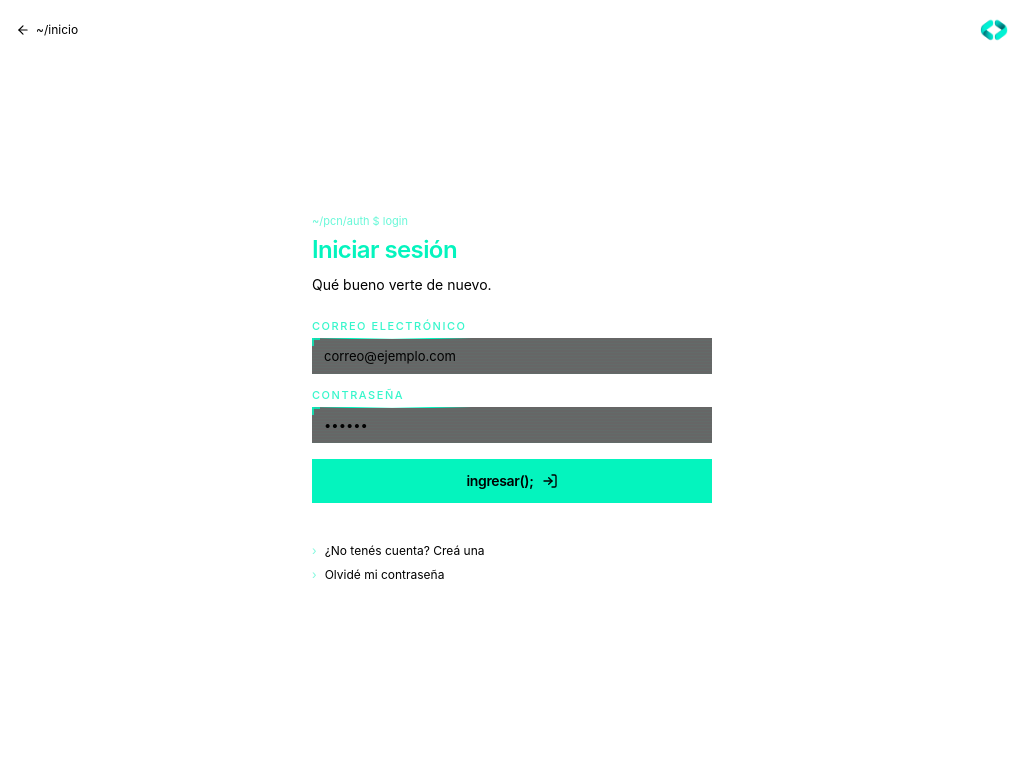
Scenario: SignInPage › two-factor step › goes back to the password form
Type "ana@example.com" into the field labelled "Correo electrónico".
click(512, 356); type("ana@example.com")  # box x1=312 y1=338 x2=712 y2=374
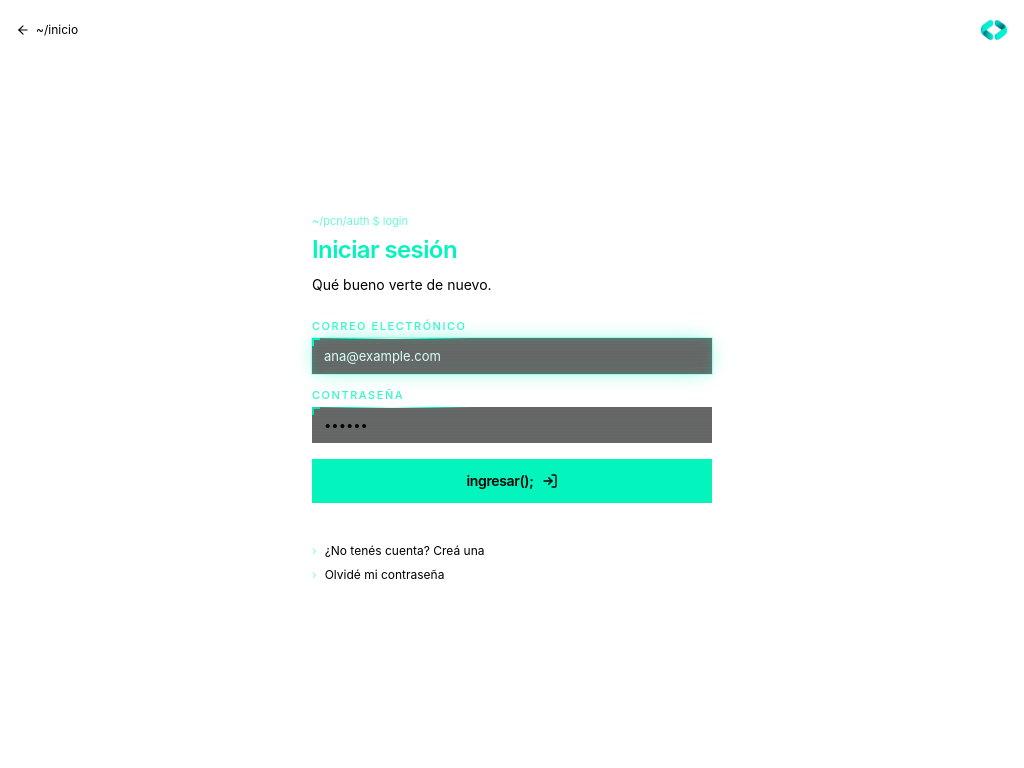
Type "secreta" into the password field labelled "Contraseña".
click(512, 425); type("secreta")  # box x1=312 y1=407 x2=712 y2=443
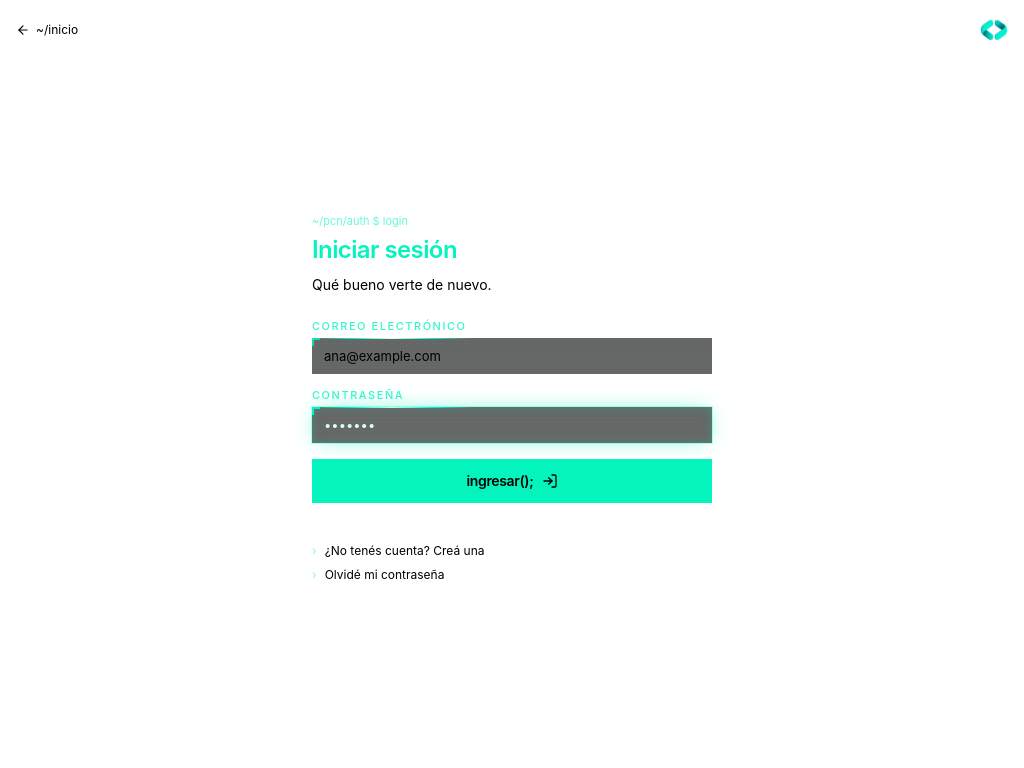
Click the button "ingresar();".
click(512, 481)  # box x1=312 y1=459 x2=712 y2=503
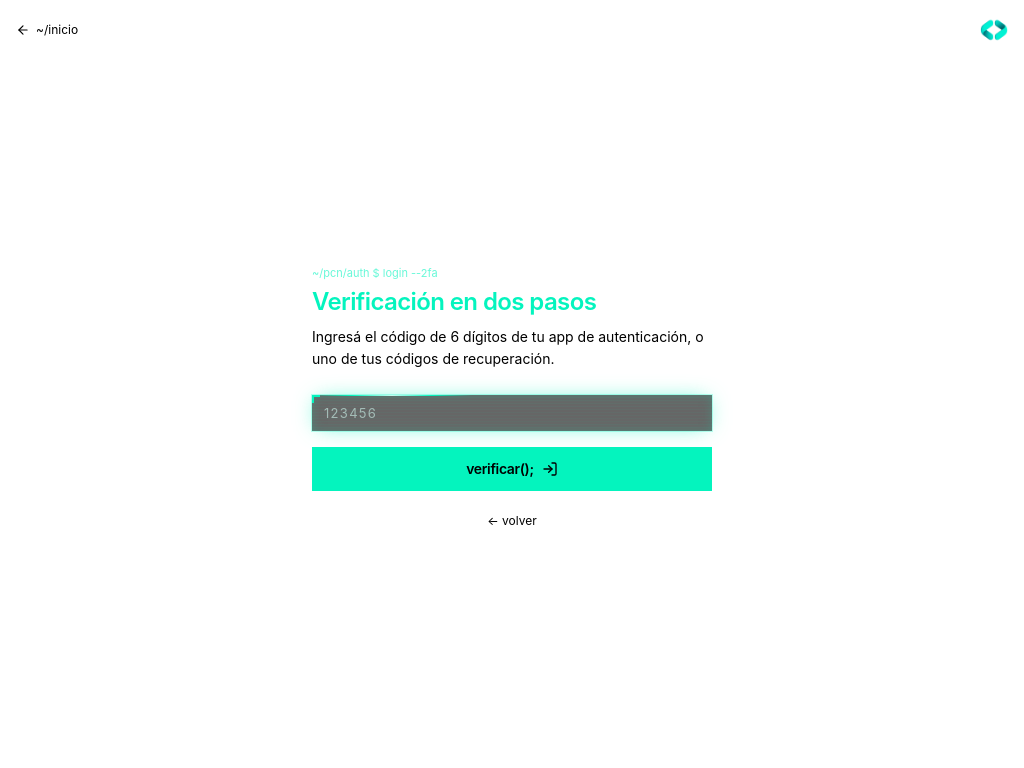
Click the button "← volver".
click(512, 521)  # box x1=312 y1=513 x2=712 y2=529
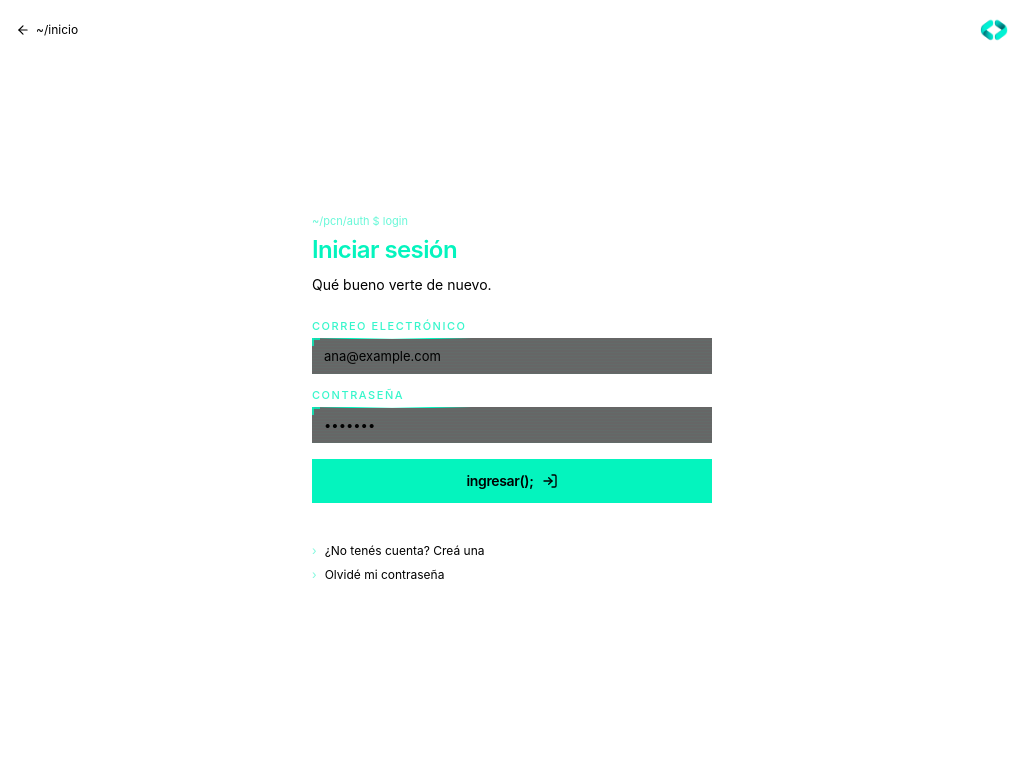
Now the password field labelled "Contraseña" is shown, box x1=312 y1=407 x2=712 y2=443
